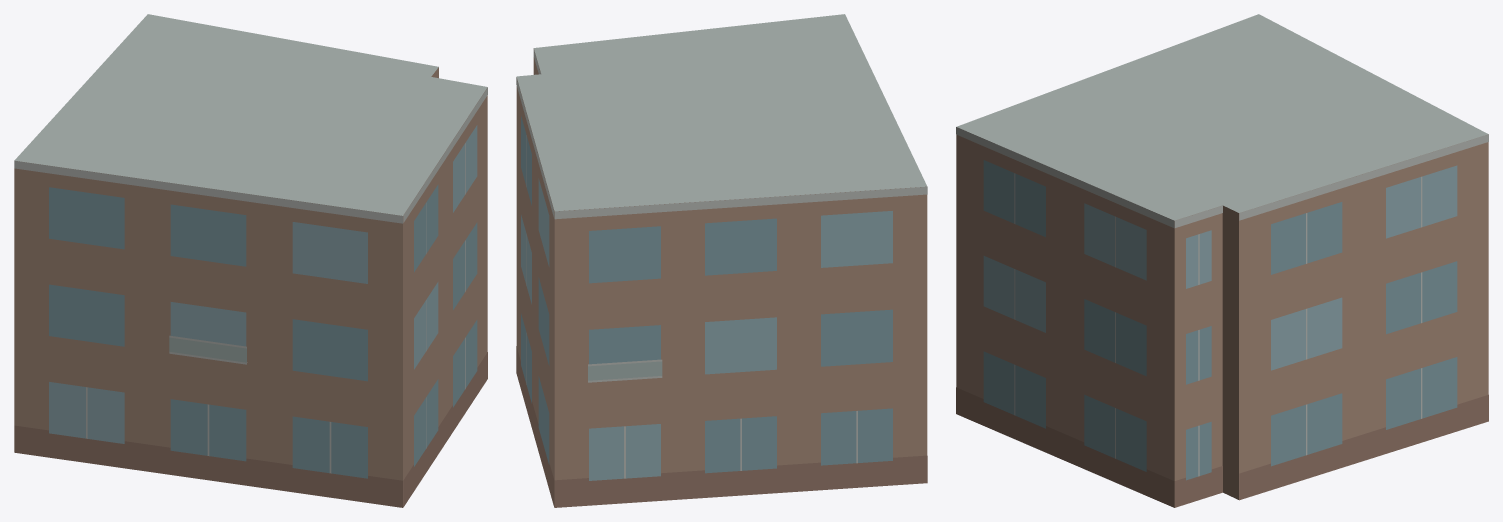
The model's file is survey-upis-32656251.glb.
3 views of the same model, side by side, from view 1: azimuth 30°, elevation 25°; view 2: azimuth 150°, elevation 25°; view 3: azimuth 270°, elevation 25° (orthographic). The views are drawn at different scales.
Visible parts, largest first — view 1: survey-upis-32656251.tmp; view 2: survey-upis-32656251.tmp; view 3: survey-upis-32656251.tmp.
Part boxes in pixels (bbox=[...]): survey-upis-32656251.tmp: bbox=[14, 14, 487, 507]; survey-upis-32656251.tmp: bbox=[516, 14, 927, 507]; survey-upis-32656251.tmp: bbox=[956, 14, 1488, 507].
Size of the model in its own units: 14.13 by 9.15 by 15.38.
